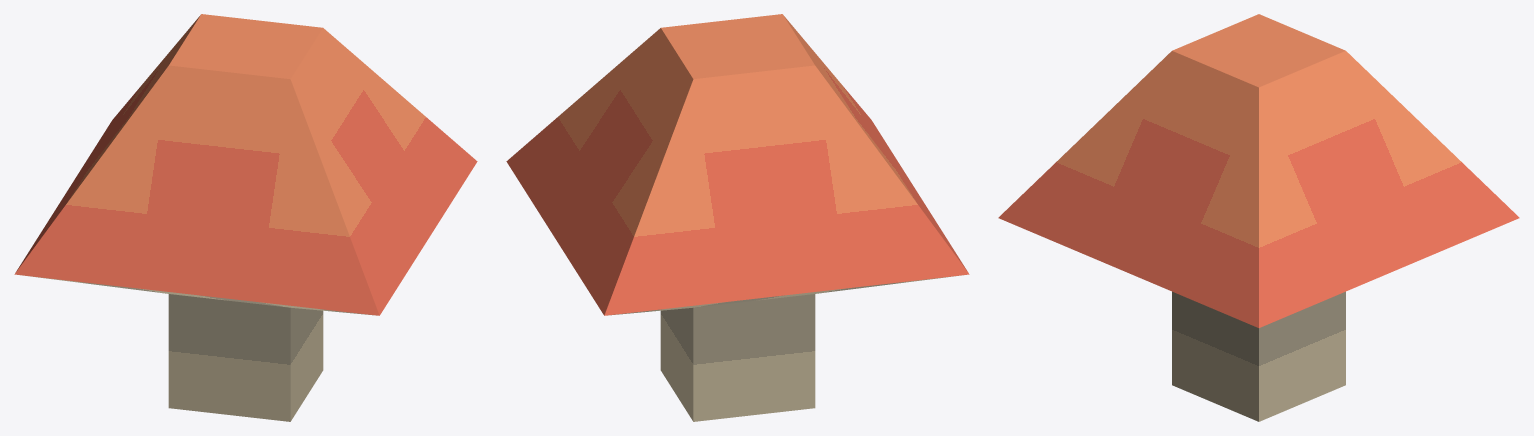
The model's file is mushroom_b.fbx.
3 views of the same model, side by side, from view 1: azimuth 30°, elevation 25°; view 2: azimuth 150°, elevation 25°; view 3: azimuth 270°, elevation 25° (orthographic). The views are drawn at different scales.
Visible parts, largest first — view 1: Shroom B; view 2: Shroom B; view 3: Shroom B.
Part boxes in pixels (left/top/right/bottom): Shroom B: left=14, top=14, right=477, bottom=421; Shroom B: left=506, top=14, right=969, bottom=421; Shroom B: left=998, top=14, right=1519, bottom=421.
Size of the model in its own units: 26.52 by 18.75 by 26.52.
1 material, 1 textured.
